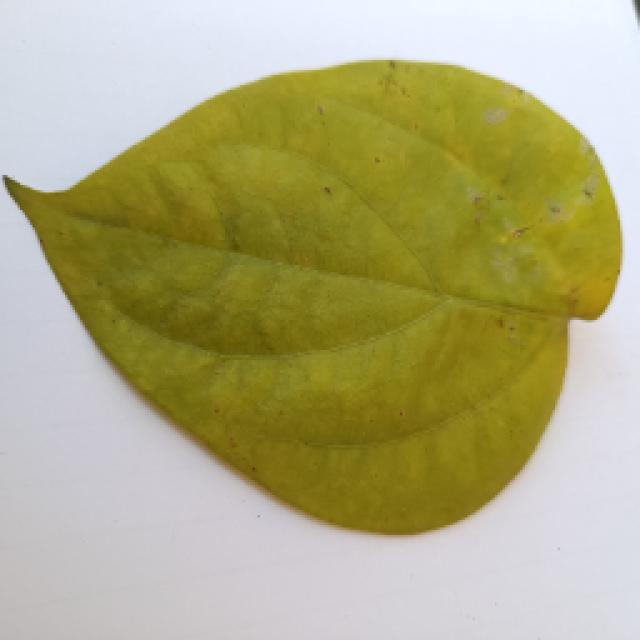slow-decline: (0, 68, 608, 540)
